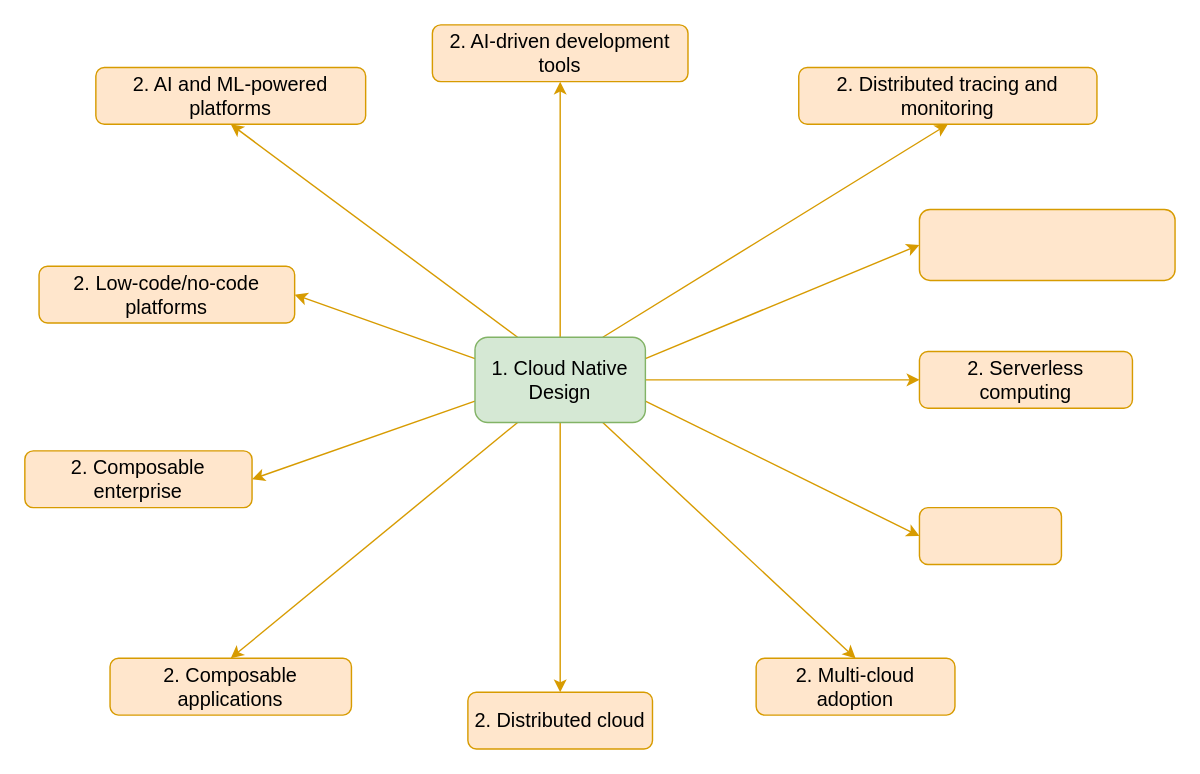
Some shapes in this 1200 by 774 pixel diagram are drawn without their labels. The box of each missing label's shape, as (x1, y1, x2, y2) in pixels:
2. Containers: (918, 506, 1061, 564)
2. Continuous feedback loops: (918, 208, 1175, 280)
